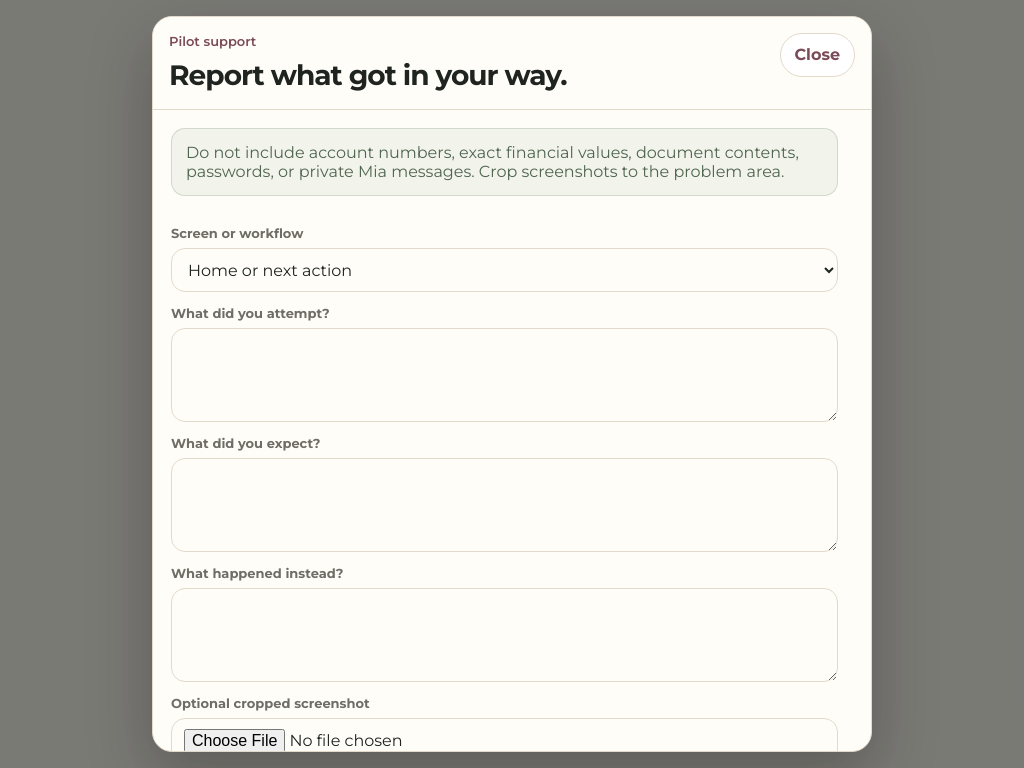
Test: report-only support sharing › cannot restore a confirmed withdrawal from stale replacement history metadata
Type "Open technical help" into the text box labelled "What did you attempt?" at (504, 375), box 171,328 -> 838,422
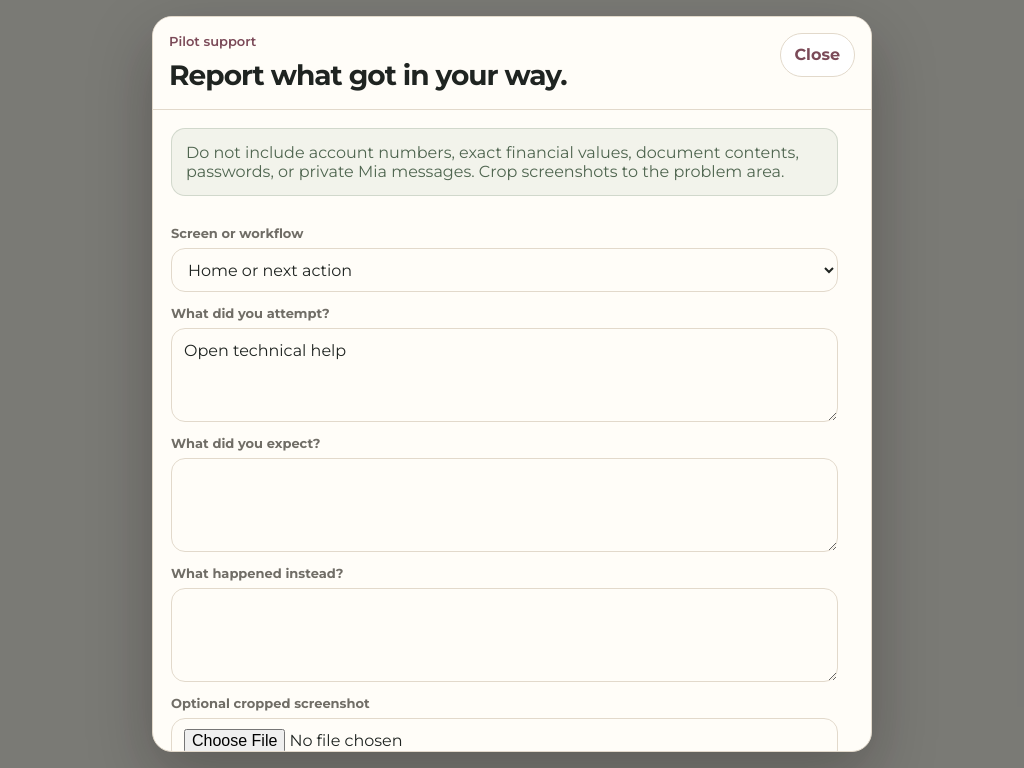
Type "A readable button" into the text box labelled "What did you expect?" at (504, 505), box 171,458 -> 838,552
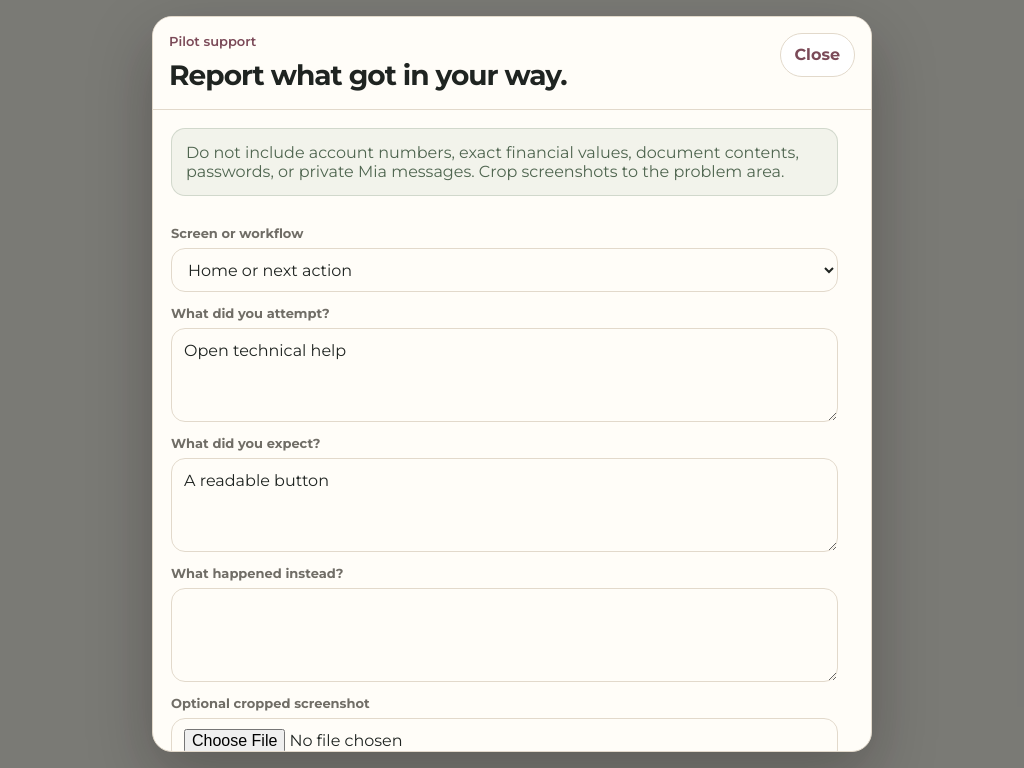
Type "A small button" into the text box labelled "What happened instead?" at (504, 635), box 171,588 -> 838,682
(page scrolled)
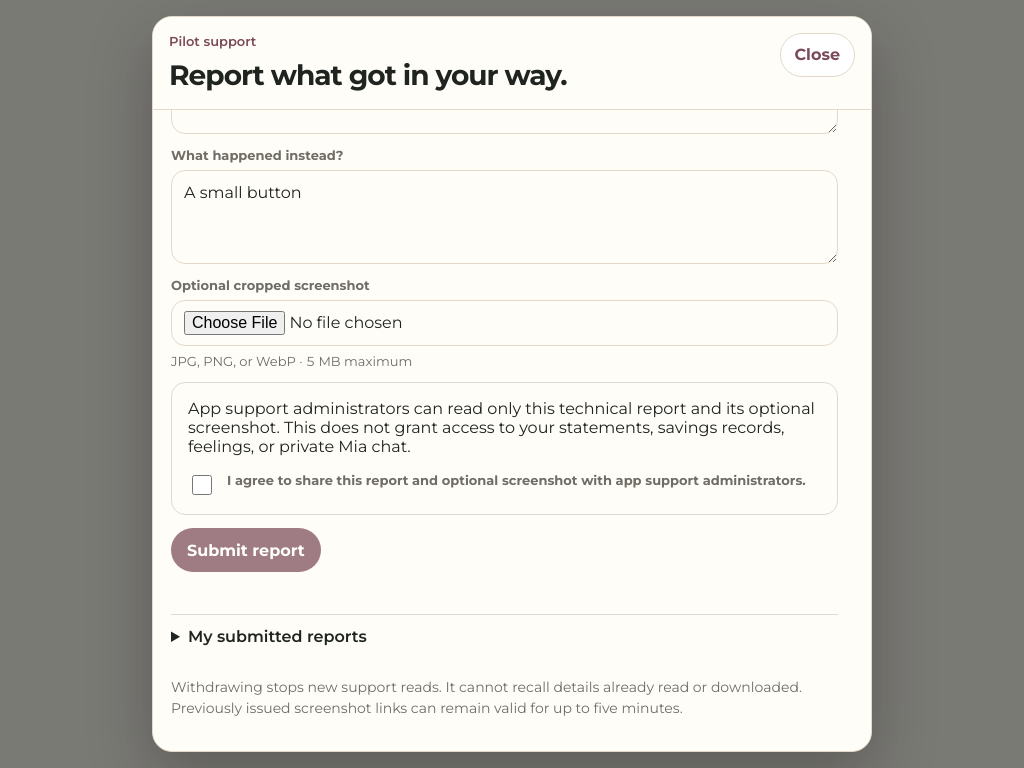
Click the checkbox named "I agree to share this report and optional screenshot with app support administrators." at (202, 485), box 192,475 -> 212,495
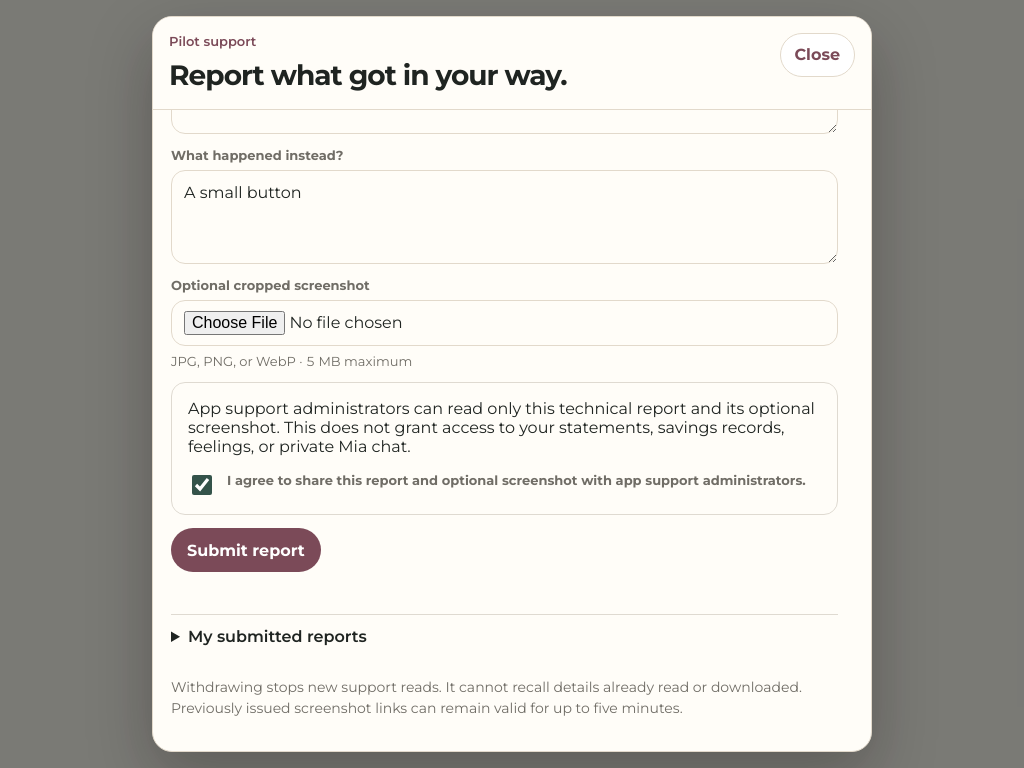
Click the button "Submit report" at (246, 550), box 171,528 -> 321,572
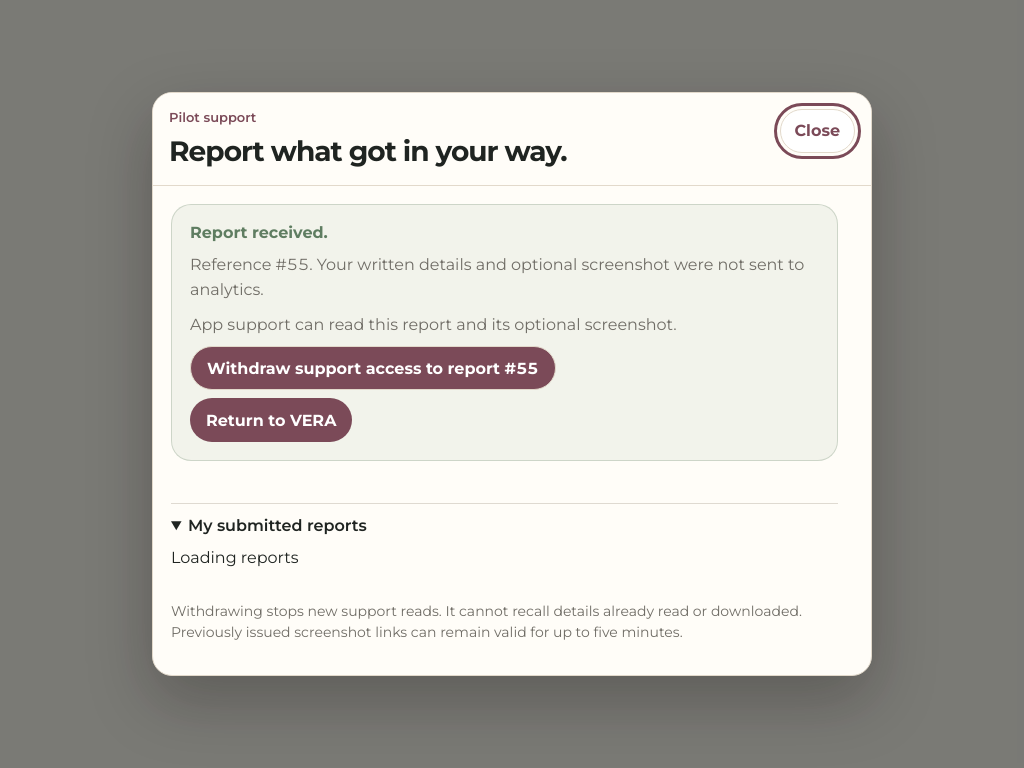
Check: the text "Report received." is shown, box 190,223 -> 328,242
Click the button "Withdraw support access to report #55" at (373, 368), box 190,346 -> 556,390
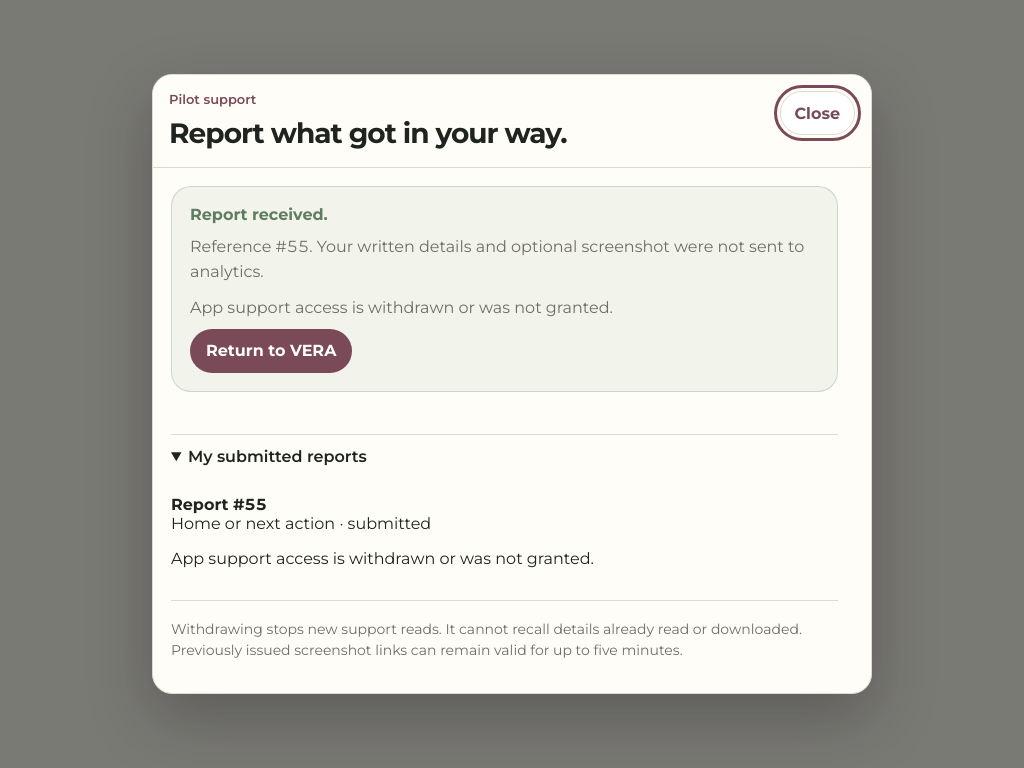
Check: the text "Report #55" is shown, box 171,495 -> 267,514
Check: the text "App support access is withdrawn or was not granted." is shown 2 times, box 190,296 -> 613,321; 171,549 -> 594,568
Check: the text "App support can read this report and its optional screenshot." is gone
